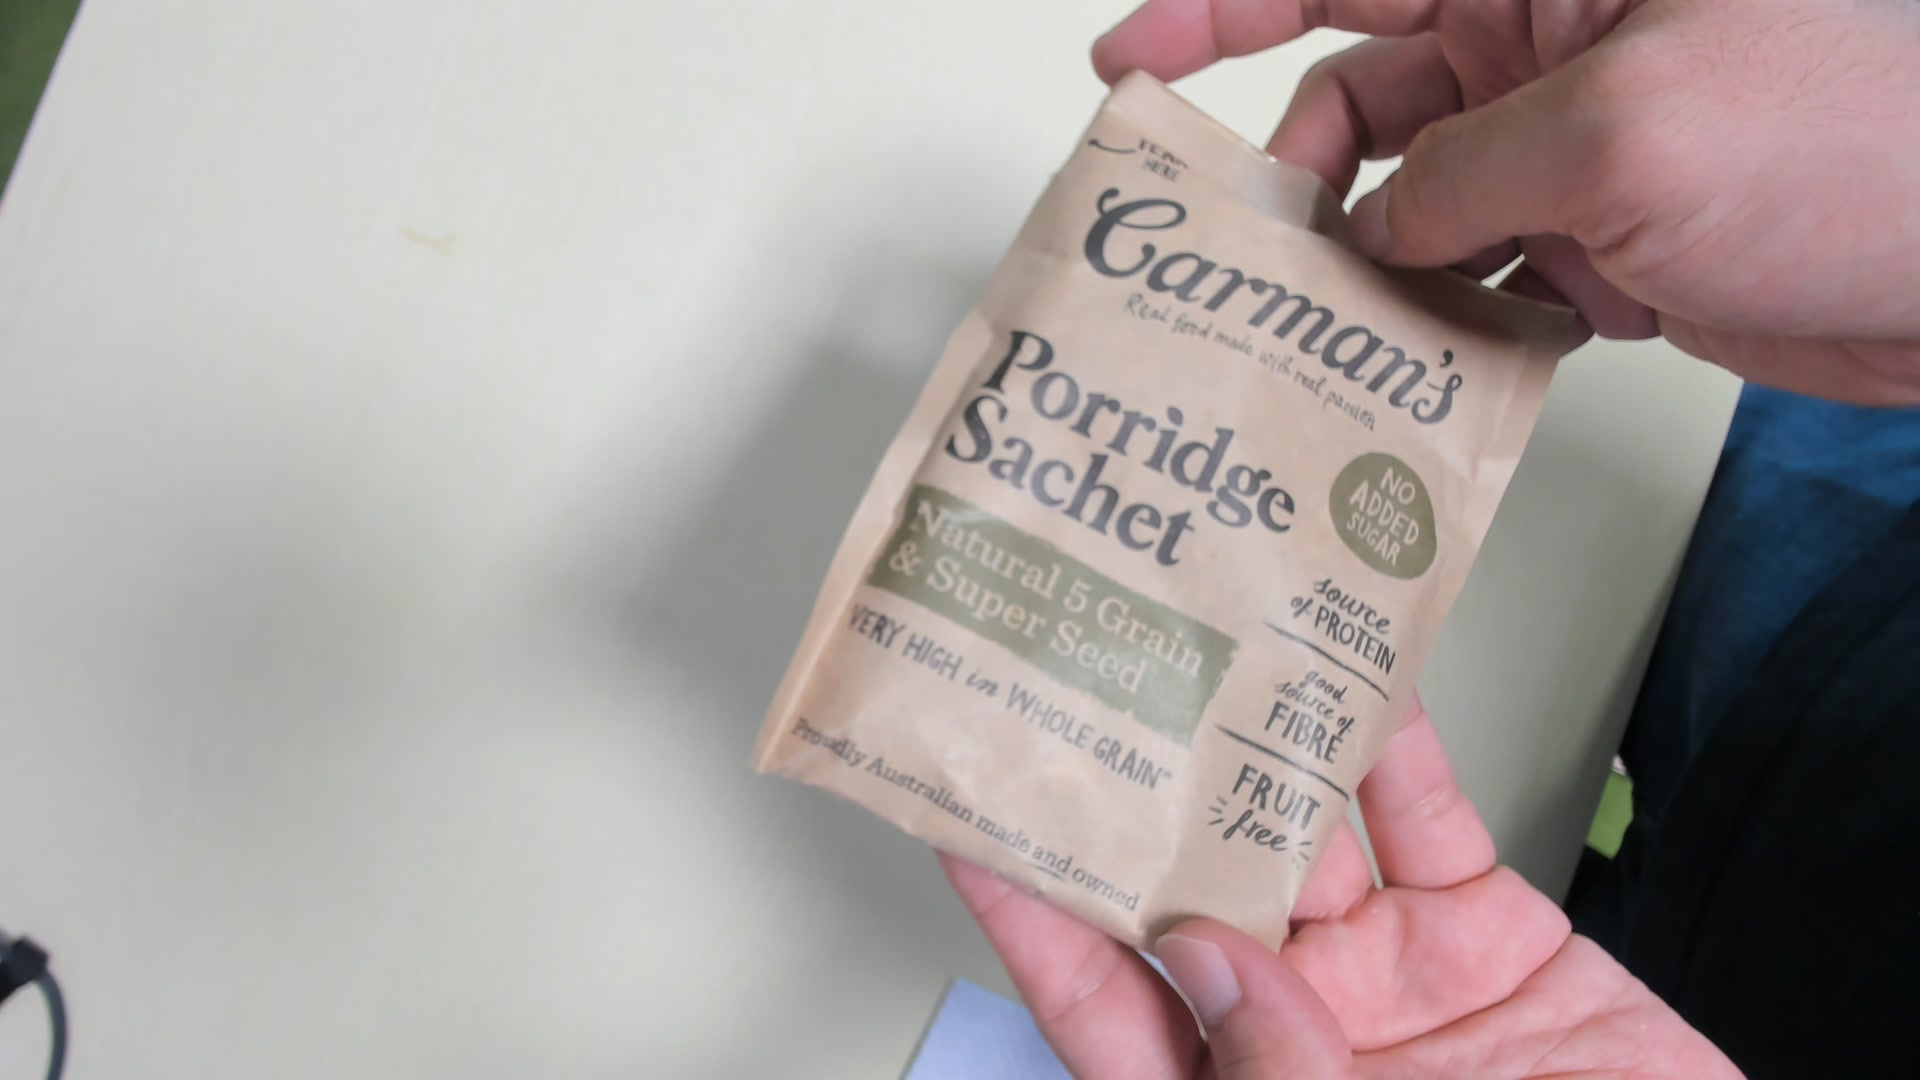InstantMeals_0-99g_NonHalal_NonHealthy: (746, 79, 1584, 968)
